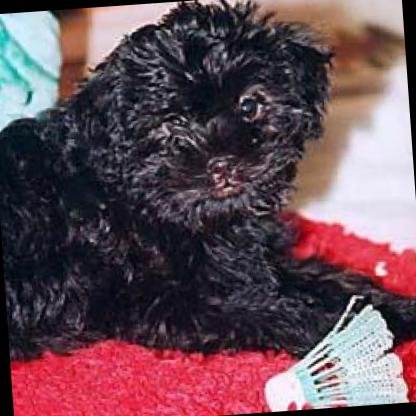affenpinscher: (0, 0, 416, 376)
